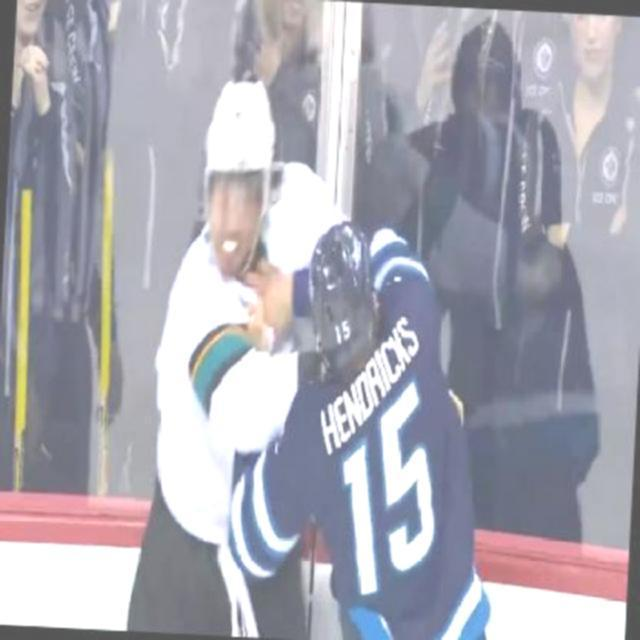fight: (140, 63, 522, 639)
